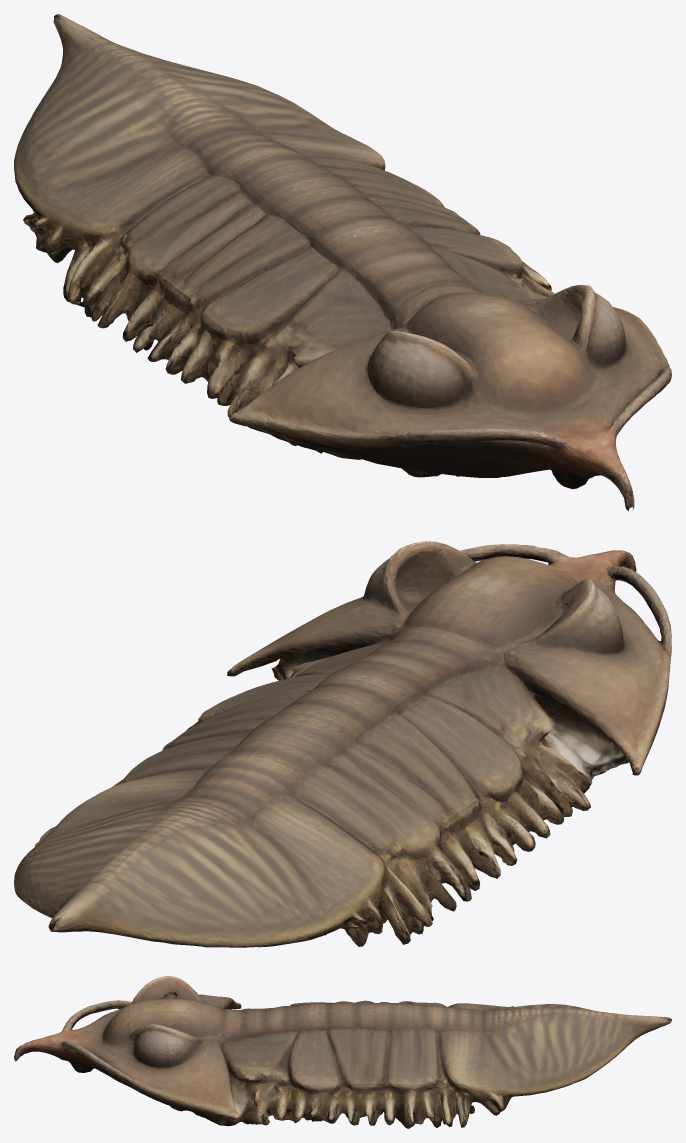
3 views of the same model, one above another, from view 1: azimuth 30°, elevation 25°; view 2: azimuth 150°, elevation 25°; view 3: azimuth 270°, elevation 25° (orthographic). The views are drawn at different scales.
Visible parts, largest first — view 1: world; view 2: world; view 3: world.
Part boxes in pixels (x1,y1,x2,y2): world: [14, 14, 671, 510]; world: [14, 541, 671, 947]; world: [14, 976, 671, 1128].
Size of the model in its own units: 0.0254 by 0.00979 by 0.062.
1 material, 1 textured.
